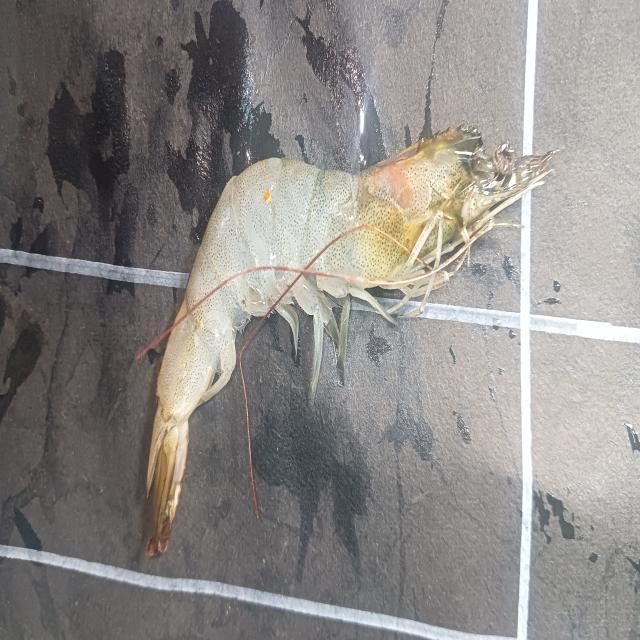shrimp: (146, 128, 554, 553)
